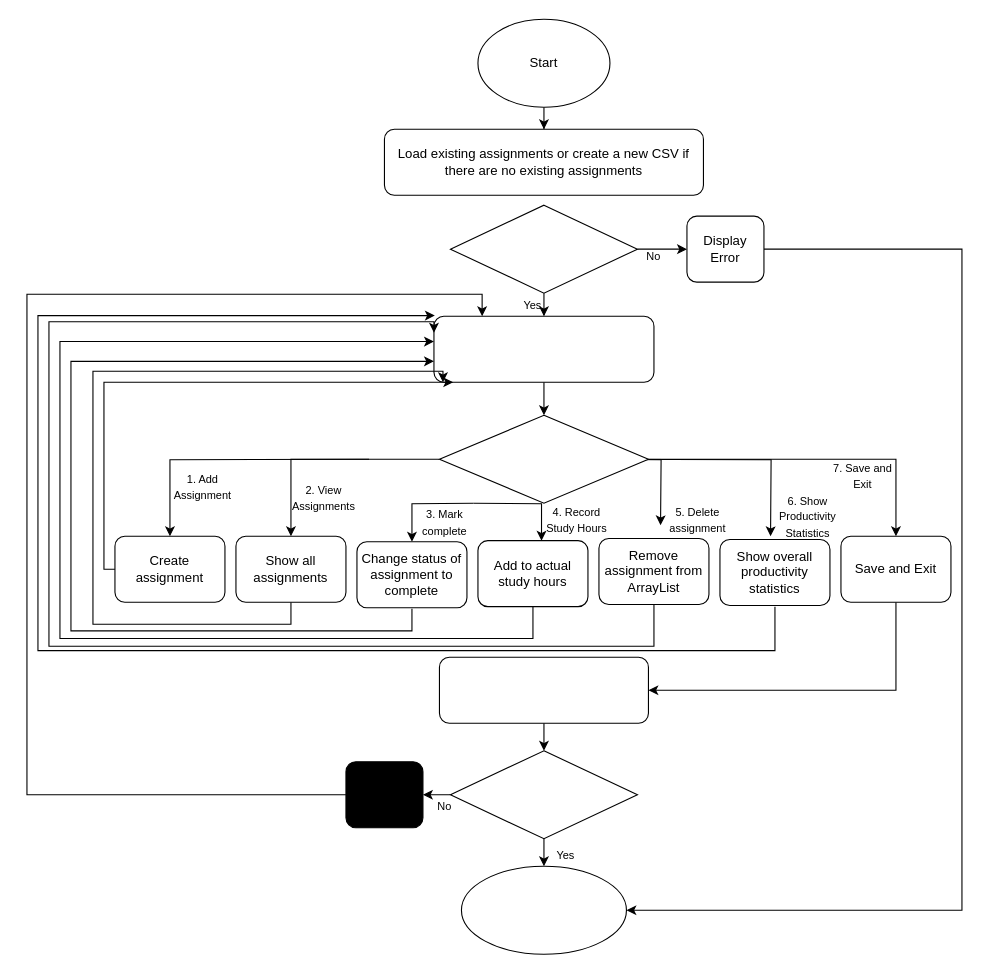
This 990x974 diagram has some shape labels left out. Each missing label, with the centre of its shape:
"Display main menu" goes at (543,348).
"End" goes at (543,909).
"Load Successful?" goes at (543,248).
"Save assignments to CSV file" goes at (543,689).
"Save Successful?" goes at (543,794).
"Select a menu option" goes at (543,458).
